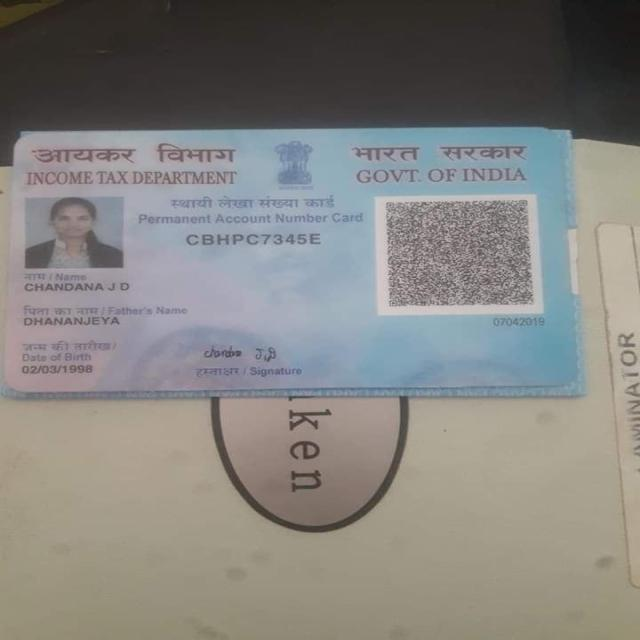pan_card: (8, 128, 577, 389)
